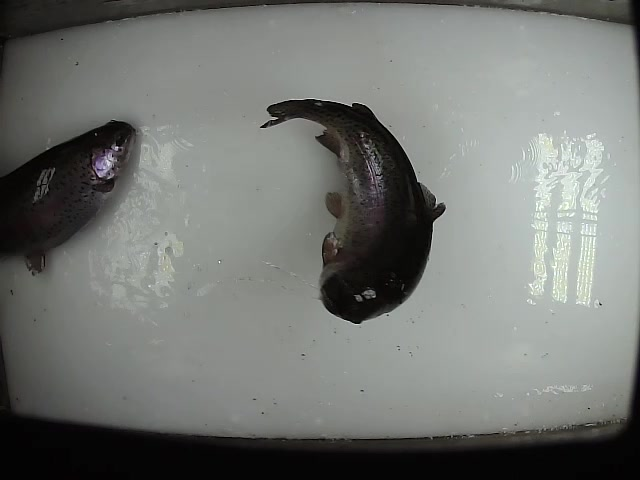fish: (257, 95, 446, 325), (1, 119, 141, 277)
